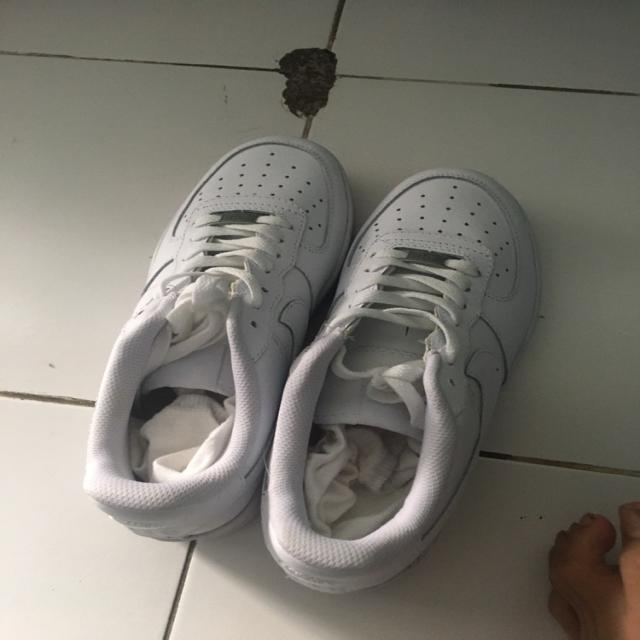nike fake air force: (258, 162, 553, 596), (81, 135, 365, 542)
